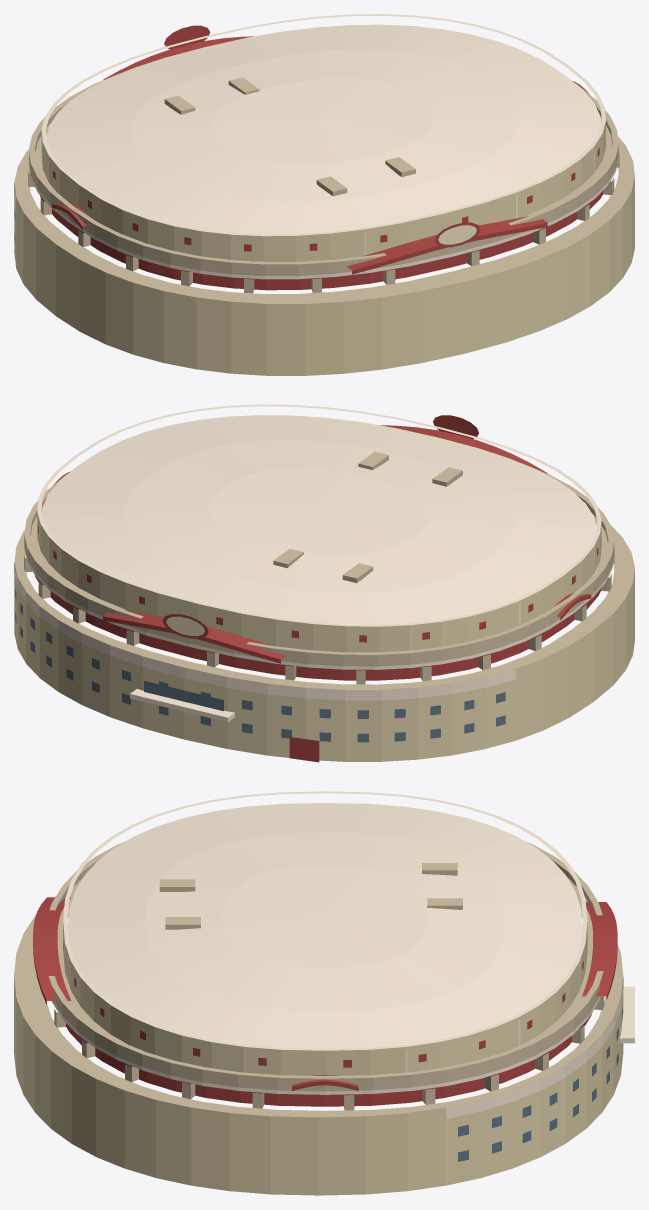
File: sd-viejas-arena.glb
The picture shows the model from 3 angles, top to bottom: view 1: azimuth 30°, elevation 25°; view 2: azimuth 150°, elevation 25°; view 3: azimuth 270°, elevation 25°; orthographic projection. The views are drawn at different scales.
Parts seen in each view (by area): view 1: Viejas Arena; view 2: Viejas Arena; view 3: Viejas Arena.
Part boxes in pixels (x1,y1,x2,y2): Viejas Arena: [14, 14, 634, 375]; Viejas Arena: [14, 404, 634, 762]; Viejas Arena: [14, 791, 634, 1195].
Bounding box in the file's own units: 121 × 27.6 × 111.
